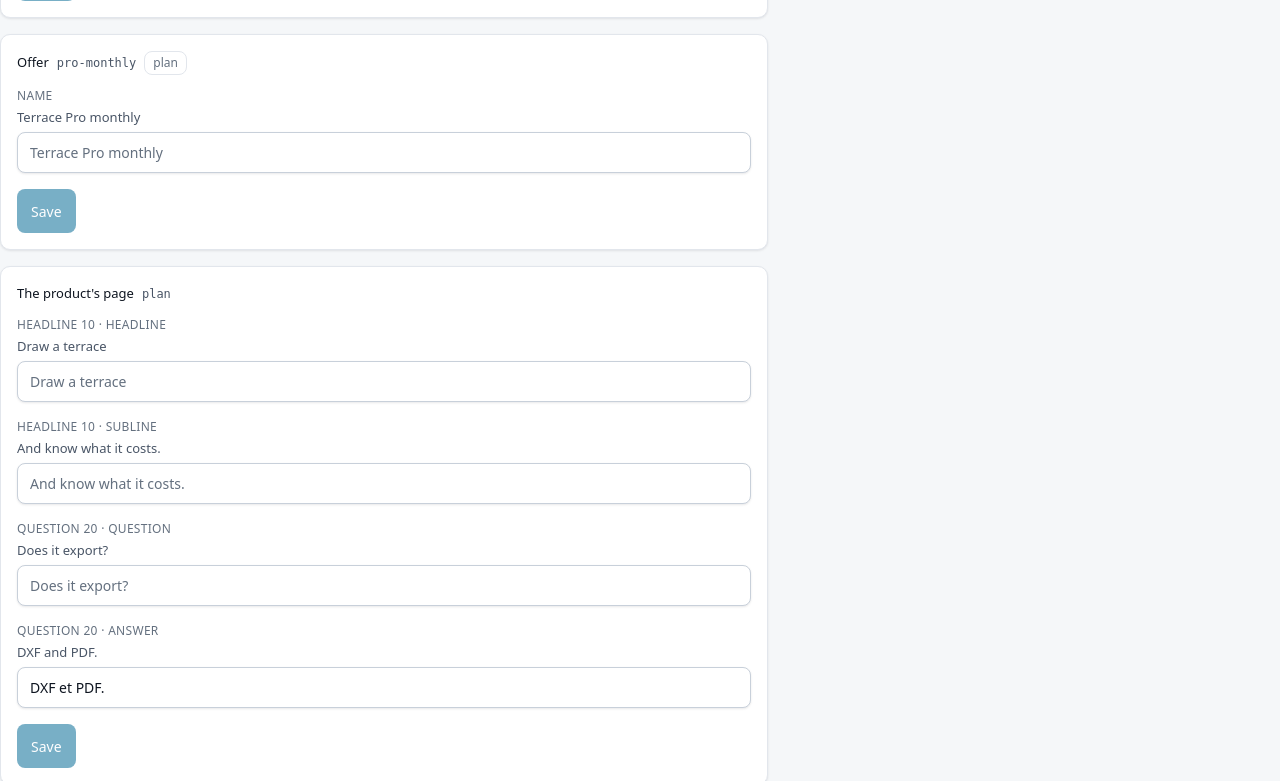
Test: a story › refuses rather than re-creating a band that has gone
(page scrolled)
In the field with test id "translation-showcase-plan-HEADLINE.10.headline": {"x": 384, "y": 382} [17, 361, 751, 402], type "Dessinez une terrasse"
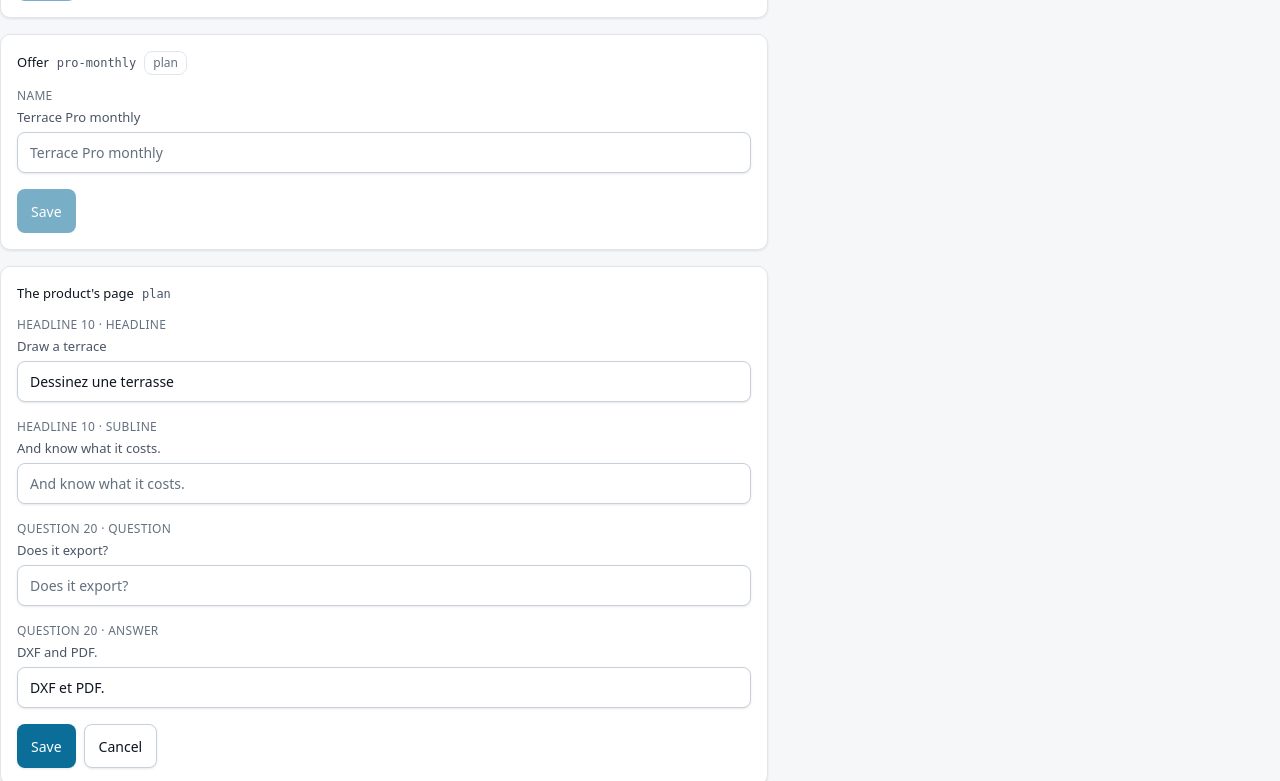
Submit the form with test id "translate-showcase-plan", box [17, 316, 751, 768]
(page scrolled)
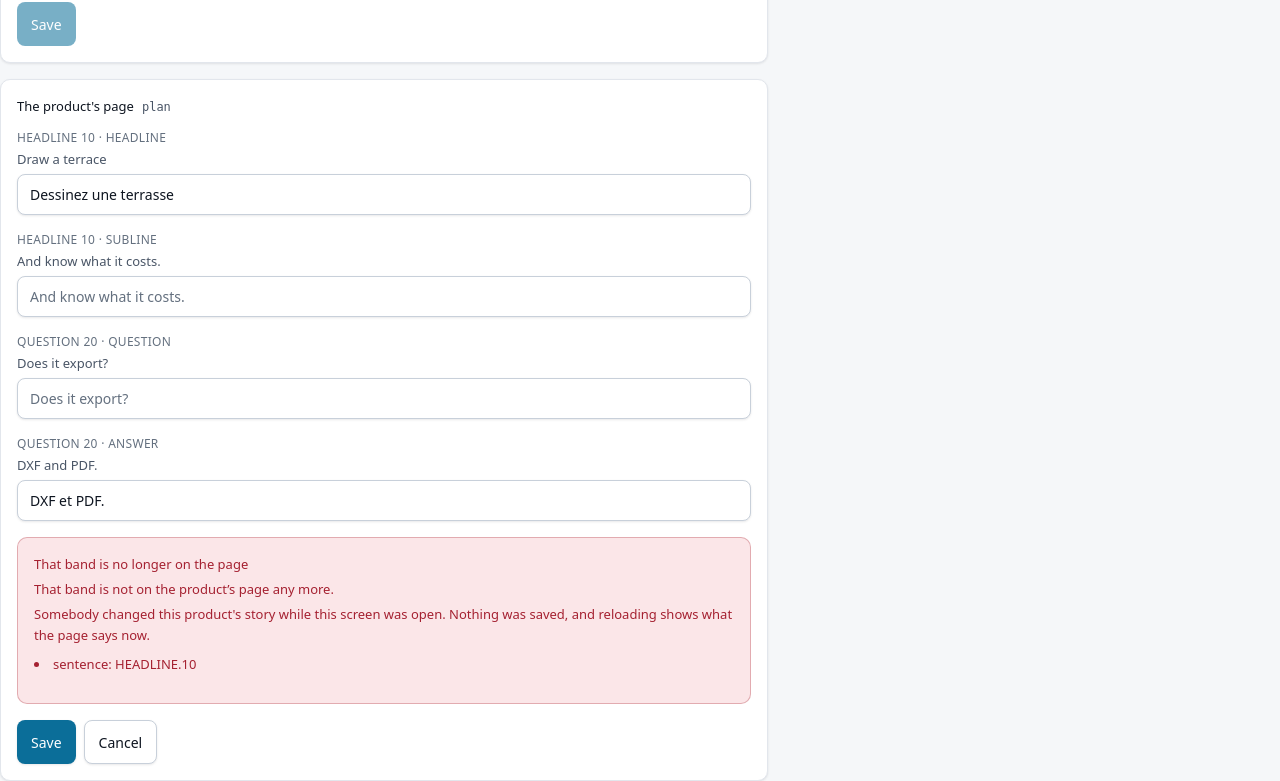
Result: the message is shown at [17, 537, 751, 704]
Result: the message shows "no longer on the page" at [34, 555, 248, 573]
